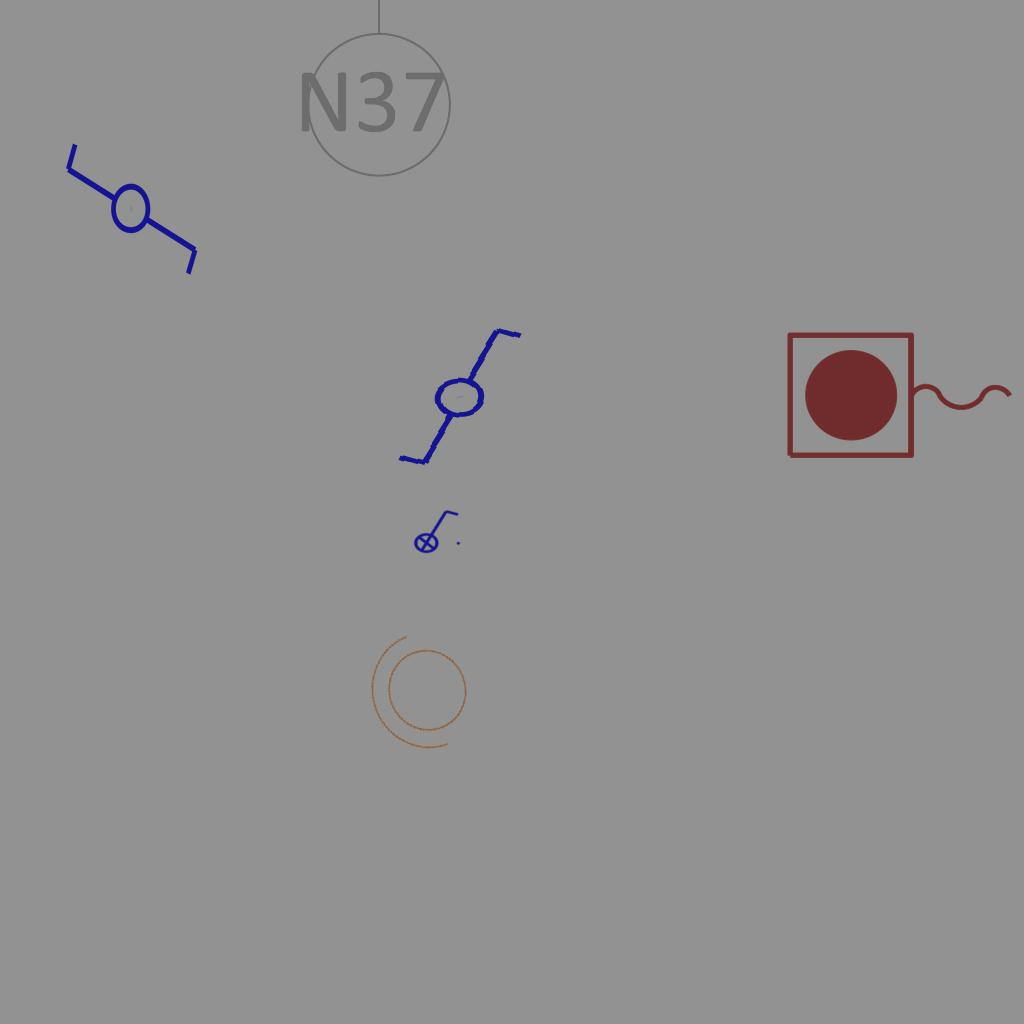Ausschalter_beleuchtet: (407, 506, 463, 554)
Scheinwerfer_fuer_Alarmbeleuchtung: (348, 613, 500, 777)
Wechselschalter: (368, 318, 535, 474), (61, 122, 205, 279)
Zugtaster: (779, 325, 1023, 469)
